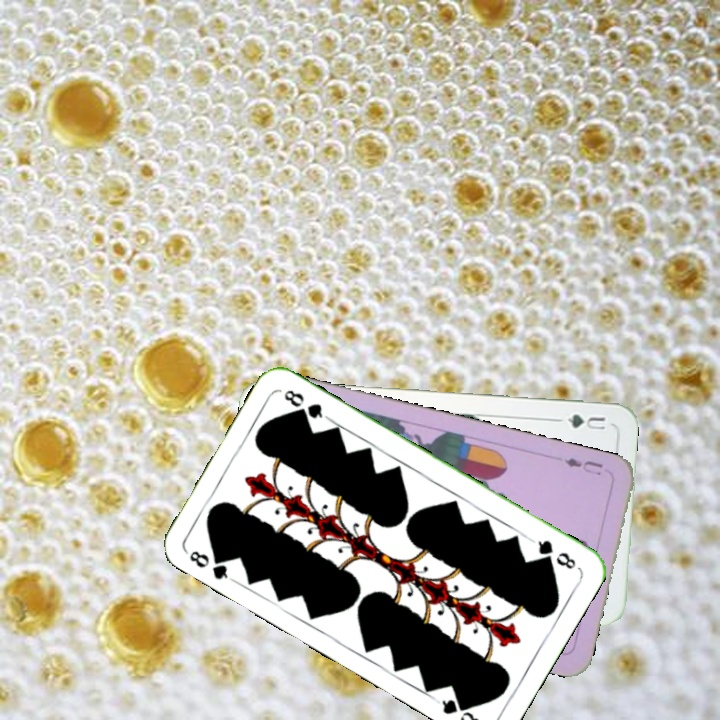EU: (559, 453, 605, 478)
G8: (183, 546, 236, 584), (534, 535, 579, 572)
GU: (563, 410, 608, 433)
